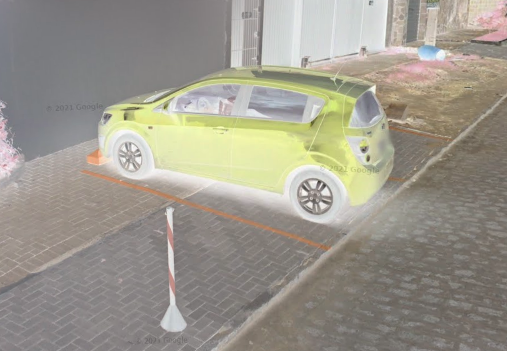car: (97, 61, 399, 224)
